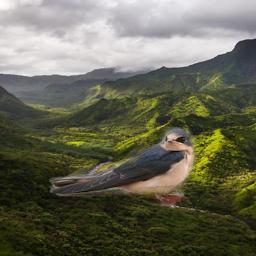Swallow: (49, 126, 196, 206)
